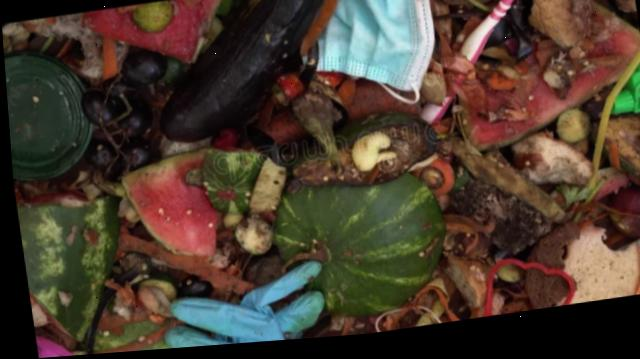Disposable: (159, 264, 318, 350)
Garbage: (1, 0, 640, 358)
Plastic: (3, 50, 90, 178), (457, 0, 517, 69), (417, 101, 450, 128)
